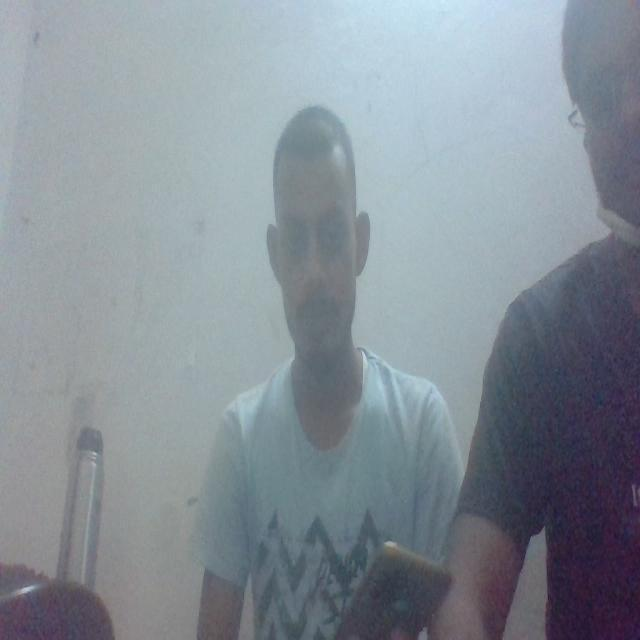Phone: (326, 537, 457, 640)
